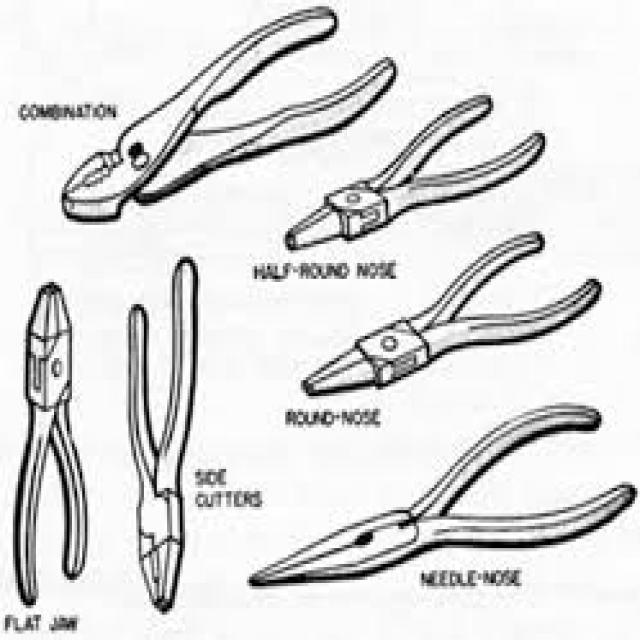pliers: (55, 0, 399, 232), (243, 400, 640, 596), (292, 222, 610, 408), (287, 84, 555, 260), (110, 245, 209, 623), (7, 273, 98, 612)
